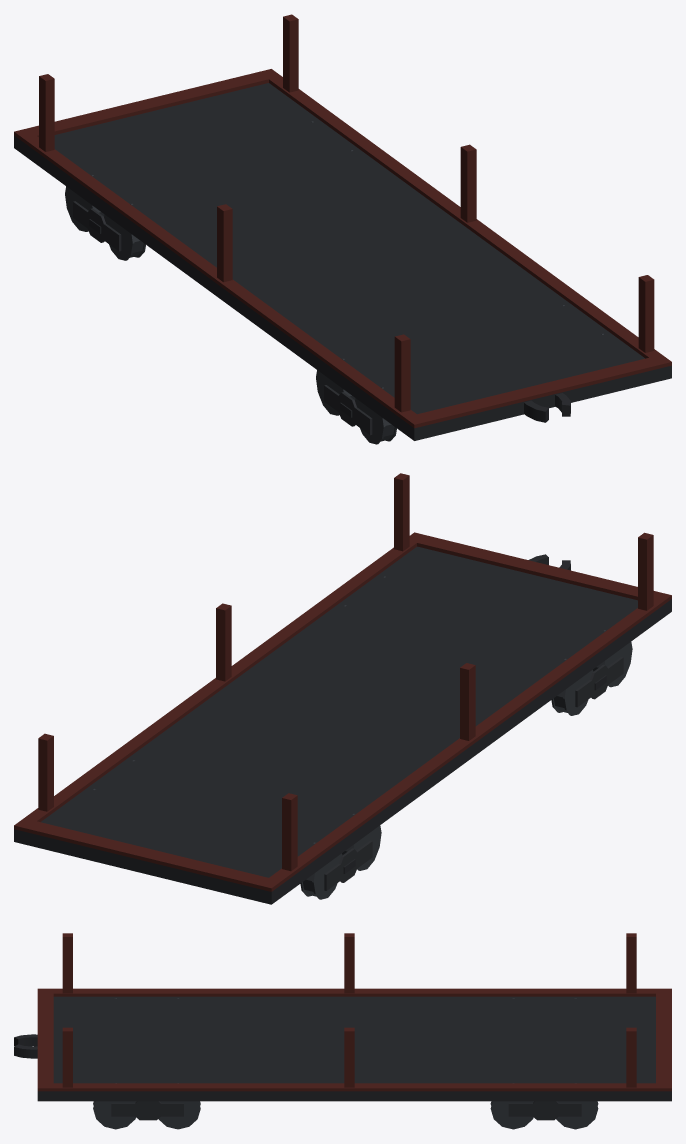
File: Wagon_1.fbx
3 renders of one model, top to bottom at view 1: azimuth 30°, elevation 25°; view 2: azimuth 150°, elevation 25°; view 3: azimuth 270°, elevation 25°, orthographic. The views are drawn at different scales.
Visible parts, largest first — view 1: Wagon_1; view 2: Wagon_1; view 3: Wagon_1.
Boxes of the visible parts, x1,y1,x2,y2 form: Wagon_1: [14, 14, 671, 444]; Wagon_1: [14, 473, 671, 904]; Wagon_1: [14, 933, 671, 1129].
Bounding box in the file's own units: 231 × 108 × 644.
